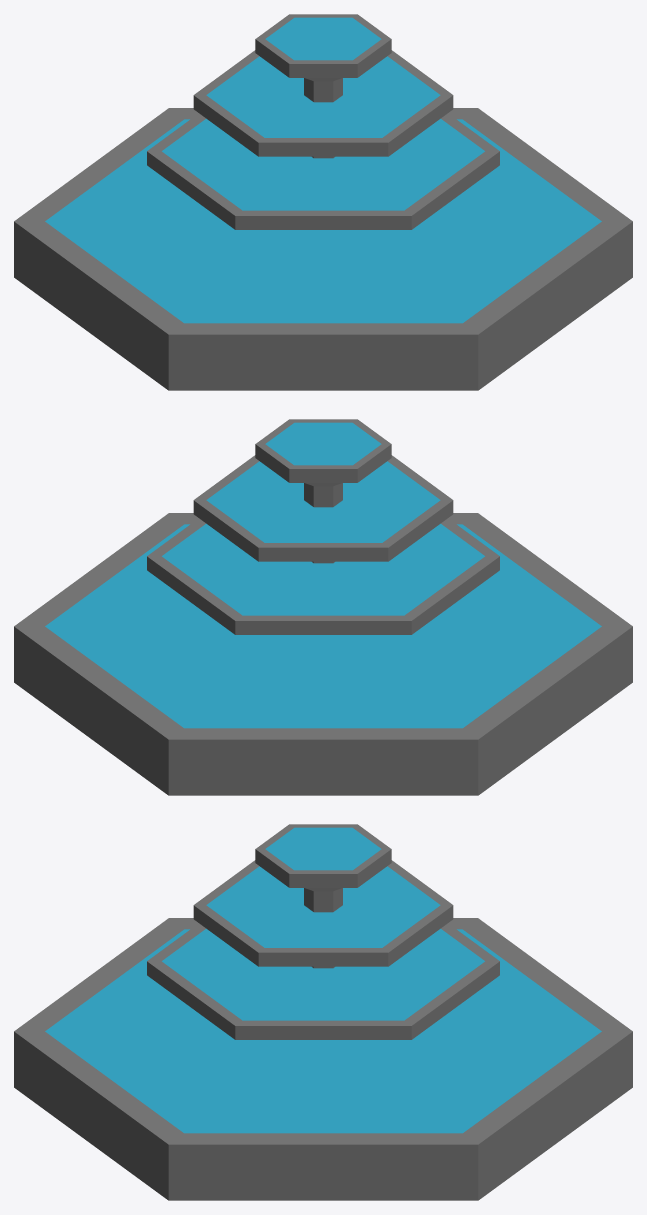
File: Fountain01.fbx
3 views of the same model, one above another, from view 1: azimuth 30°, elevation 25°; view 2: azimuth 150°, elevation 25°; view 3: azimuth 270°, elevation 25° (orthographic).
Parts seen in each view (by area): view 1: Fountain01; view 2: Fountain01; view 3: Fountain01.
Part boxes in pixels (bbox=[...]): Fountain01: bbox=[14, 14, 632, 390]; Fountain01: bbox=[14, 419, 632, 795]; Fountain01: bbox=[14, 824, 632, 1200].
Size of the model in its own units: 693 by 340 by 800.
